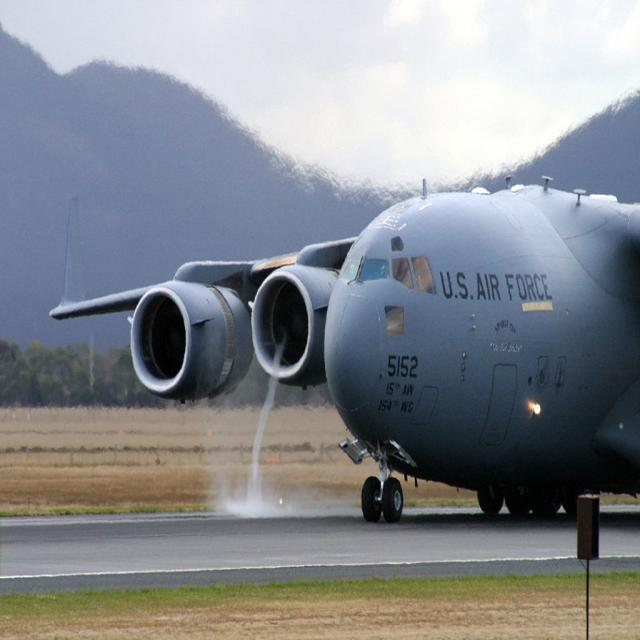MIL_Plane: (49, 174, 640, 521)
